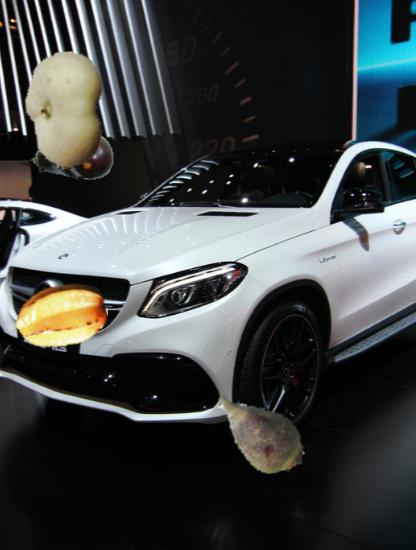Beetroot: (204, 377, 317, 490)
Carambula: (15, 269, 109, 363)
Eggplant: (30, 114, 116, 200)
Peach: (7, 52, 125, 170)
